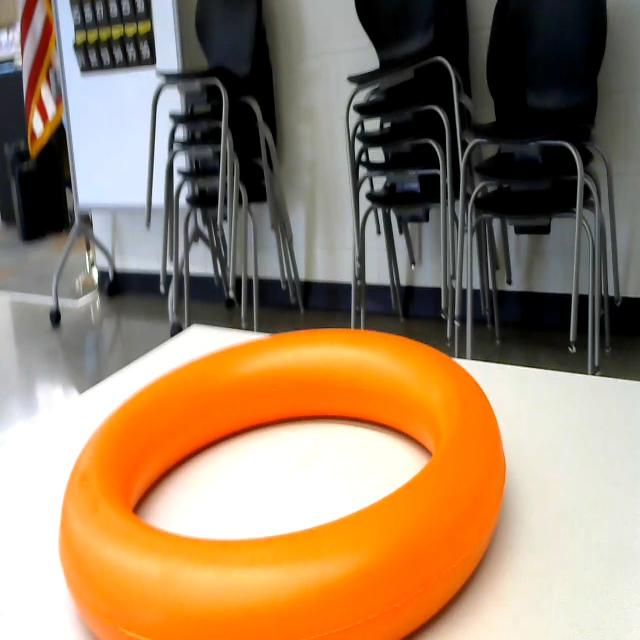note: (38, 325, 542, 640)
